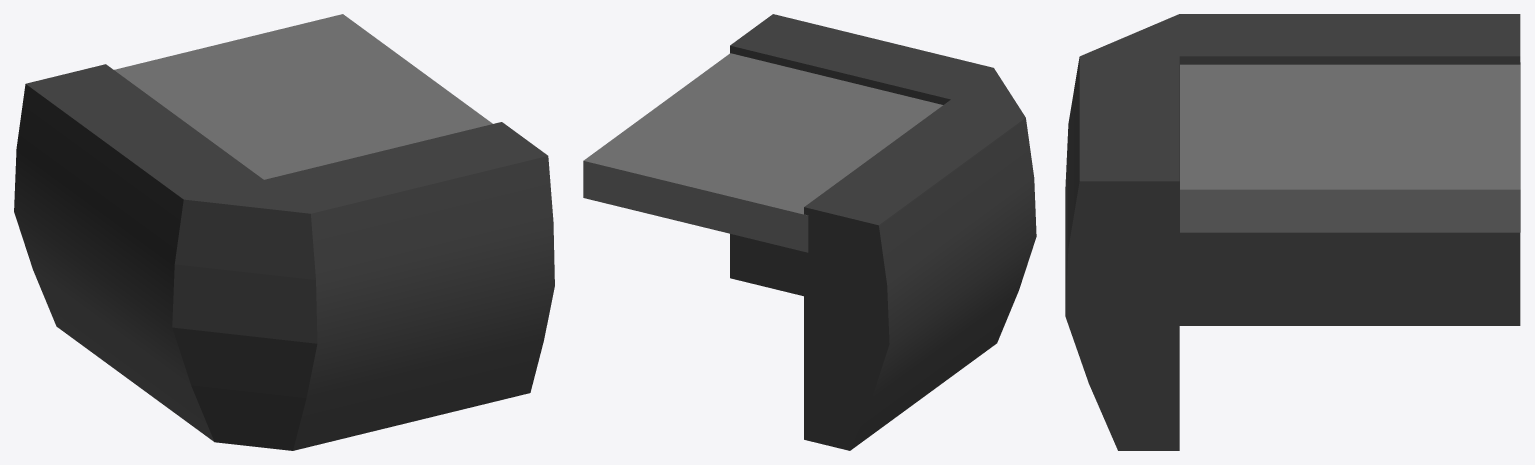
File: mesh_stone_harbour__entrance_cornor_piecve.fbx
The picture shows the model from 3 angles, left to right: view 1: azimuth 30°, elevation 25°; view 2: azimuth 150°, elevation 25°; view 3: azimuth 270°, elevation 25°; orthographic projection. The views are drawn at different scales.
Visible parts, largest first — view 1: stone_harbour__entrance_cornor_piecve; view 2: stone_harbour__entrance_cornor_piecve; view 3: stone_harbour__entrance_cornor_piecve.
Part boxes in pixels (x1,y1,x2,y2): stone_harbour__entrance_cornor_piecve: (14,14,554,450); stone_harbour__entrance_cornor_piecve: (583,14,1036,450); stone_harbour__entrance_cornor_piecve: (1065,14,1520,450).
Size of the model in its own units: 863 by 626 by 958.
Materials: 1 (1 with a texture image).
